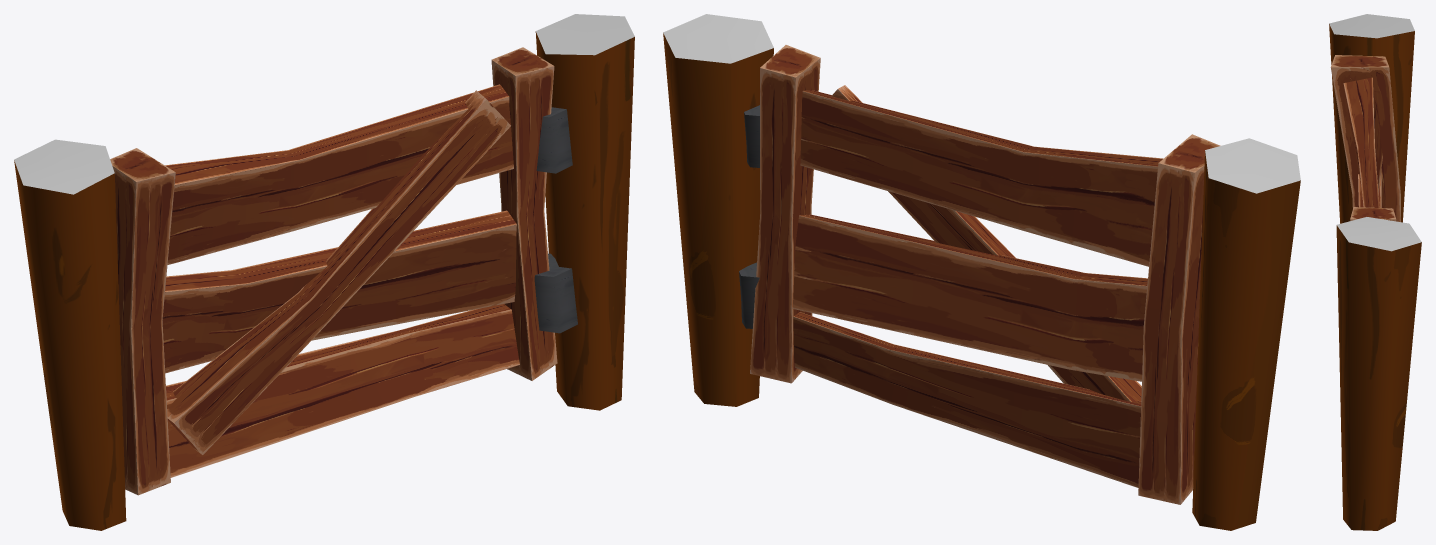
File: SM_PROP_fence_door_gate.fbx
The picture shows the model from 3 angles, left to right: view 1: azimuth 30°, elevation 25°; view 2: azimuth 150°, elevation 25°; view 3: azimuth 270°, elevation 25°; orthographic projection. The views are drawn at different scales.
Visible parts, largest first — view 1: SM_PROP_fence_door, SM_PROP_fence_door_gate; view 2: SM_PROP_fence_door, SM_PROP_fence_door_gate; view 3: SM_PROP_fence_door_gate, SM_PROP_fence_door.
Boxes of the visible parts, x1,y1,x2,y2 form: SM_PROP_fence_door: (110, 47, 577, 495); SM_PROP_fence_door_gate: (14, 14, 634, 530); SM_PROP_fence_door: (739, 45, 1220, 504); SM_PROP_fence_door_gate: (663, 14, 1300, 530); SM_PROP_fence_door_gate: (1329, 14, 1421, 530); SM_PROP_fence_door: (1330, 55, 1400, 221).
Size of the model in its own units: 206 by 116 by 33.23.
